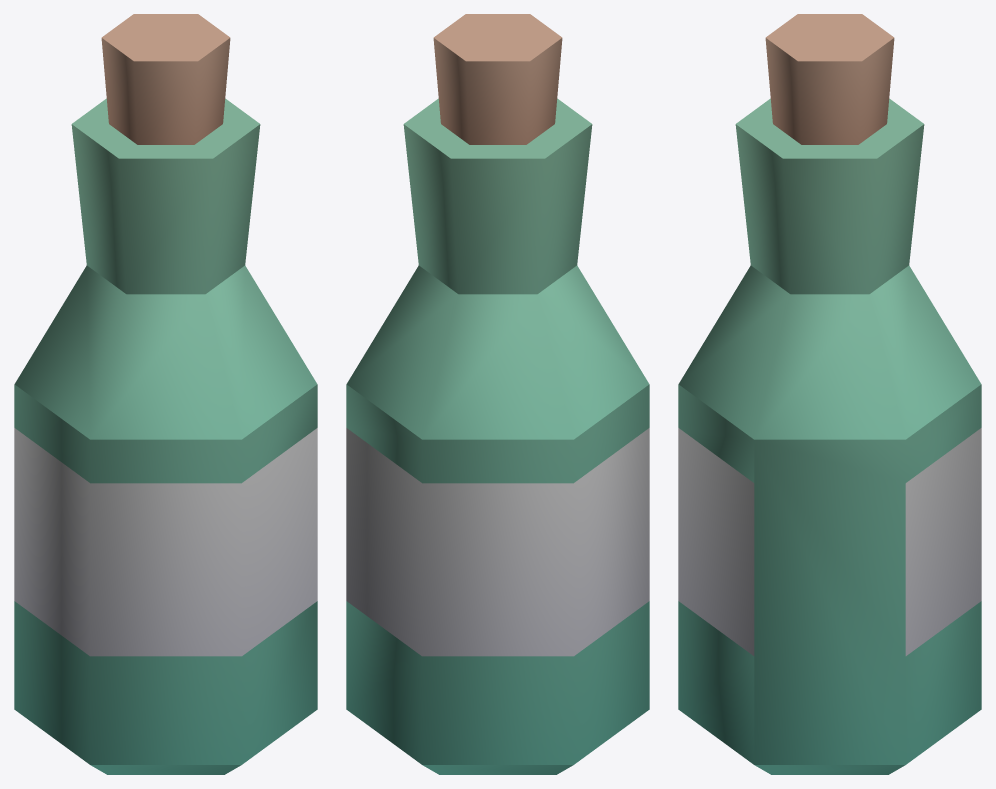
Rendered from bottle.glb.
The picture shows the model from 3 angles, left to right: view 1: azimuth 30°, elevation 25°; view 2: azimuth 150°, elevation 25°; view 3: azimuth 270°, elevation 25°; orthographic projection.
Visible parts, largest first — view 1: bottle; view 2: bottle; view 3: bottle.
Boxes of the visible parts, x1,y1,x2,y2 form: bottle: [14, 14, 317, 774]; bottle: [346, 14, 649, 774]; bottle: [678, 14, 981, 774].
Size of the model in its own units: 0.0527 by 0.1539 by 0.0608.
